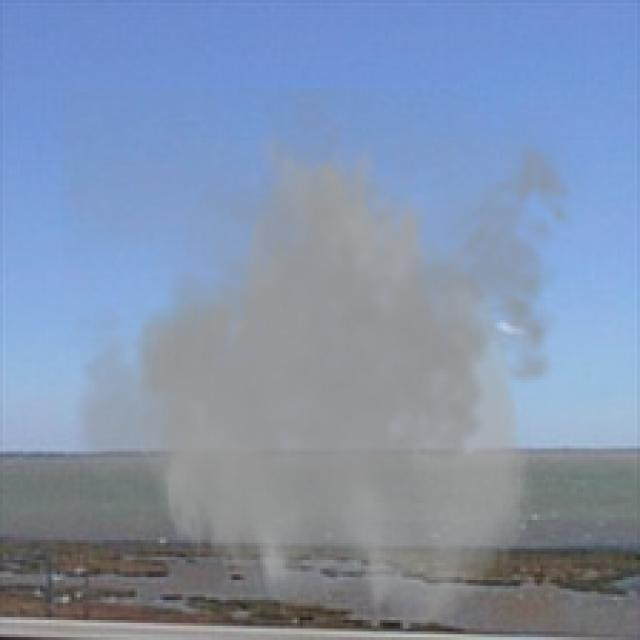smoke: (63, 89, 588, 634)
